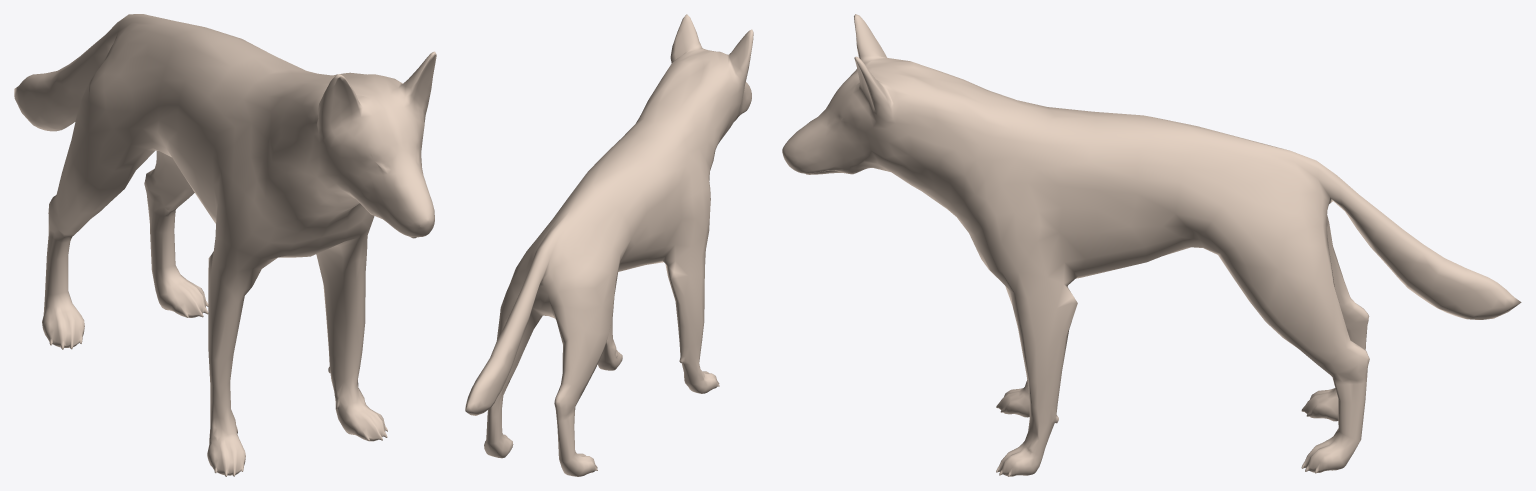
The model's file is dog.fbx.
The picture shows the model from 3 angles, left to right: view 1: azimuth 30°, elevation 25°; view 2: azimuth 150°, elevation 25°; view 3: azimuth 270°, elevation 25°; orthographic projection. The views are drawn at different scales.
Parts seen in each view (by area): view 1: dog; view 2: dog; view 3: dog.
Part boxes in pixels (x1,y1,x2,y2): dog: [14, 14, 436, 476]; dog: [465, 14, 753, 476]; dog: [782, 14, 1521, 476].
Size of the model in its own units: 0.3478 by 0.878 by 1.44.
